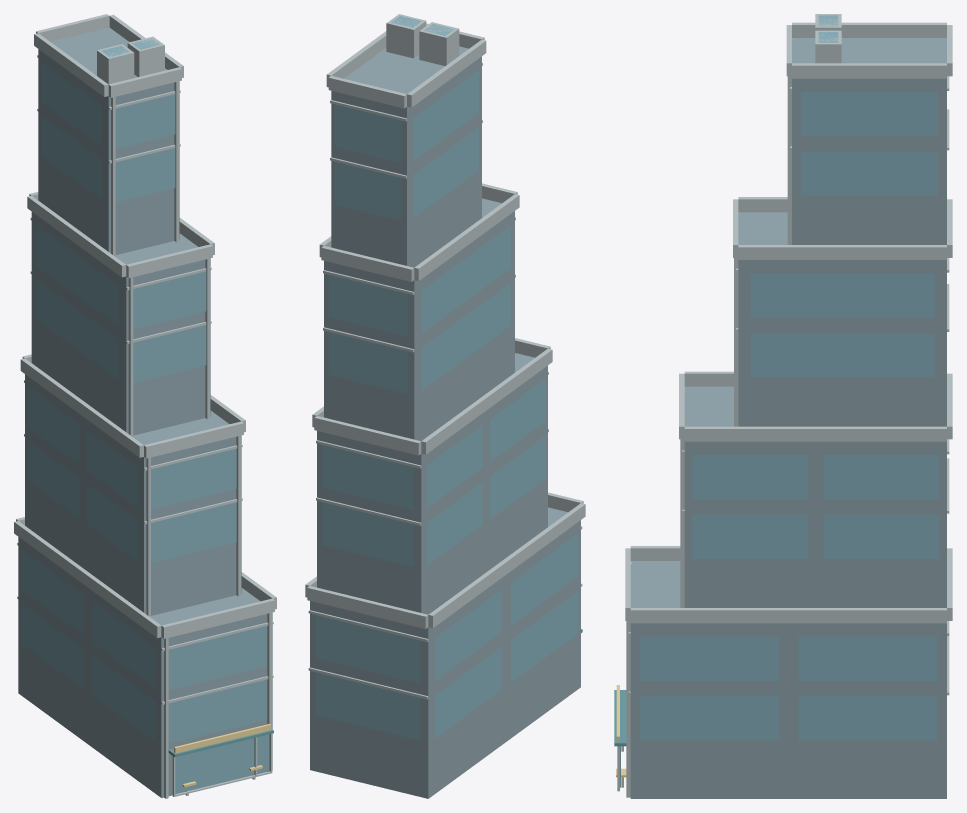
Rendered from commercial_1x2_terraces.glb.
3 renders of one model, left to right at view 1: azimuth 30°, elevation 25°; view 2: azimuth 150°, elevation 25°; view 3: azimuth 270°, elevation 25°, orthographic. The views are drawn at different scales.
Parts seen in each view (by area): view 1: commercial_1x2_terraces_0; view 2: commercial_1x2_terraces_0; view 3: commercial_1x2_terraces_0.
Part boxes in pixels (<box>): commercial_1x2_terraces_0: <box>14,14,276,798</box>; commercial_1x2_terraces_0: <box>305,14,585,798</box>; commercial_1x2_terraces_0: <box>614,14,952,798</box>.
Size of the model in its own units: 7 by 37.5 by 15.5.
